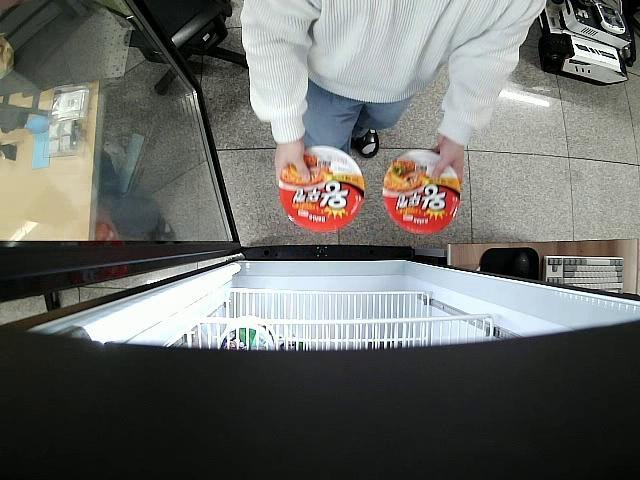10_wangTtukkeong: (278, 146, 362, 231), (383, 150, 460, 233)
